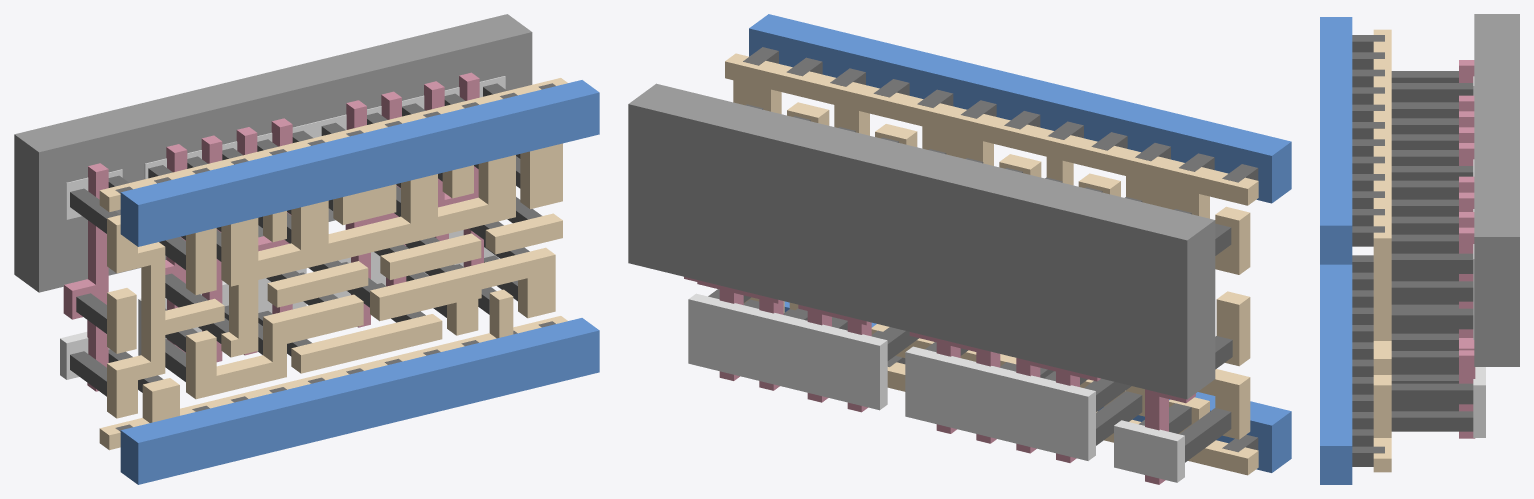
The model's file is sky130_fd_sc_hd__nand4b_2.gds.gltf.
The picture shows the model from 3 angles, left to right: view 1: azimuth 30°, elevation 25°; view 2: azimuth 150°, elevation 25°; view 3: azimuth 270°, elevation 25°; orthographic projection. The views are drawn at different scales.
Parts seen in each view (by area): view 1: sky130_fd_sc_hd__nand4b_2_li1, sky130_fd_sc_hd__nand4b_2_met1, sky130_fd_sc_hd__nand4b_2_nwell, sky130_fd_sc_hd__nand4b_2_licon, sky130_fd_sc_hd__nand4b_2_poly, sky130_fd_sc_hd__nand4b_2_diff, sky130_fd_sc_hd__nand4b_2_mcon; view 2: sky130_fd_sc_hd__nand4b_2_nwell, sky130_fd_sc_hd__nand4b_2_li1, sky130_fd_sc_hd__nand4b_2_diff, sky130_fd_sc_hd__nand4b_2_met1, sky130_fd_sc_hd__nand4b_2_licon, sky130_fd_sc_hd__nand4b_2_poly, sky130_fd_sc_hd__nand4b_2_mcon; view 3: sky130_fd_sc_hd__nand4b_2_licon, sky130_fd_sc_hd__nand4b_2_nwell, sky130_fd_sc_hd__nand4b_2_met1, sky130_fd_sc_hd__nand4b_2_mcon, sky130_fd_sc_hd__nand4b_2_li1, sky130_fd_sc_hd__nand4b_2_poly, sky130_fd_sc_hd__nand4b_2_diff.
Part boxes in pixels (x1=…): sky130_fd_sc_hd__nand4b_2_li1: x1=99, y1=78, x2=567, y2=450; sky130_fd_sc_hd__nand4b_2_met1: x1=120, y1=80, x2=599, y2=484; sky130_fd_sc_hd__nand4b_2_nwell: x1=14, y1=14, x2=532, y2=292; sky130_fd_sc_hd__nand4b_2_licon: x1=70, y1=83, x2=541, y2=396; sky130_fd_sc_hd__nand4b_2_poly: x1=63, y1=72, x2=483, y2=391; sky130_fd_sc_hd__nand4b_2_diff: x1=60, y1=76, x2=505, y2=379; sky130_fd_sc_hd__nand4b_2_mcon: x1=115, y1=83, x2=555, y2=431; sky130_fd_sc_hd__nand4b_2_nwell: x1=628, y1=83, x2=1215, y2=399; sky130_fd_sc_hd__nand4b_2_li1: x1=725, y1=53, x2=1258, y2=475; sky130_fd_sc_hd__nand4b_2_diff: x1=688, y1=293, x2=1184, y2=482; sky130_fd_sc_hd__nand4b_2_met1: x1=749, y1=14, x2=1291, y2=472; sky130_fd_sc_hd__nand4b_2_licon: x1=708, y1=104, x2=1232, y2=462; sky130_fd_sc_hd__nand4b_2_poly: x1=684, y1=277, x2=1195, y2=484; sky130_fd_sc_hd__nand4b_2_mcon: x1=743, y1=47, x2=1258, y2=452; sky130_fd_sc_hd__nand4b_2_licon: x1=1391, y1=71, x2=1473, y2=431; sky130_fd_sc_hd__nand4b_2_nwell: x1=1474, y1=14, x2=1519, y2=366; sky130_fd_sc_hd__nand4b_2_met1: x1=1320, y1=17, x2=1352, y2=484; sky130_fd_sc_hd__nand4b_2_mcon: x1=1352, y1=35, x2=1384, y2=466; sky130_fd_sc_hd__nand4b_2_li1: x1=1373, y1=29, x2=1391, y2=472; sky130_fd_sc_hd__nand4b_2_poly: x1=1459, y1=60, x2=1475, y2=438; sky130_fd_sc_hd__nand4b_2_diff: x1=1473, y1=76, x2=1485, y2=437.
Size of the model in its own units: 5.9 by 3.2 by 2.24.
